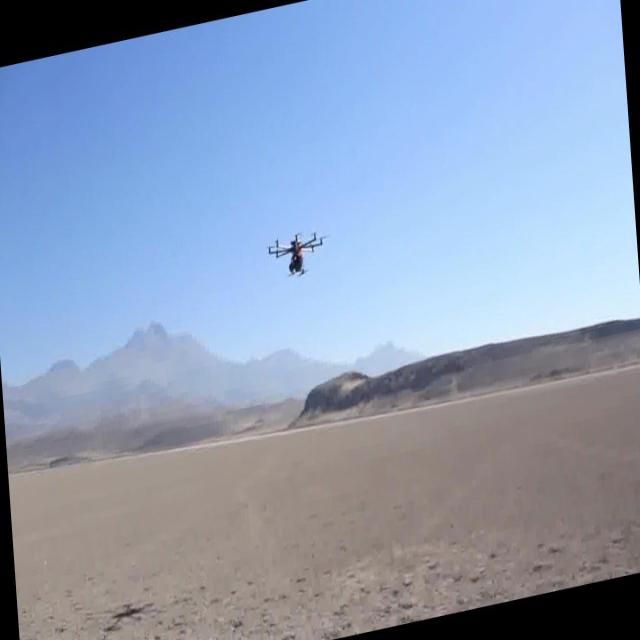drone: (265, 219, 329, 287)
